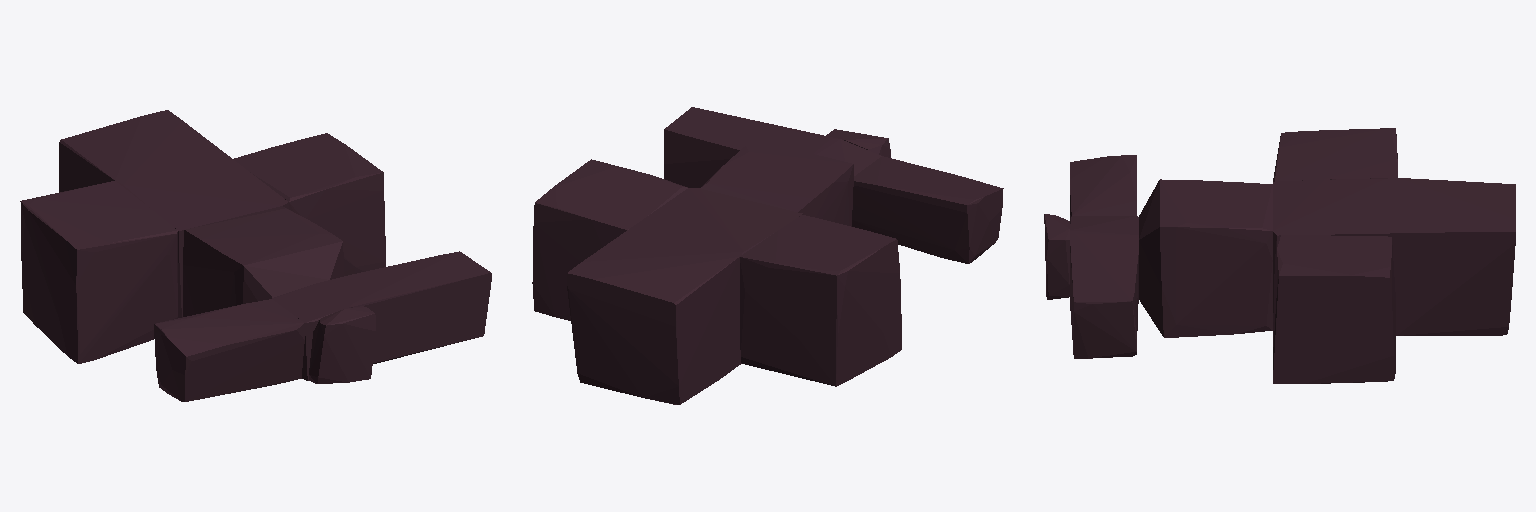
robot.urdf — blob862:
<robot name="blob862">
  <link name="random_obj_862">
    <contact>
      <lateral_friction value="1.0"/>
      <rolling_friction value="0.0"/>
      <inertia_scaling value="3.0"/>
      <contact_cfm value="0.0"/>
      <contact_erp value="1.0"/>
    </contact>
    <inertial>
      <origin rpy="0 0 0" xyz="0 0 0"/>
      <mass value="0.1"/>
      <inertia ixx="1" ixy="0" ixz="0" iyy="1" iyz="0" izz="0"/>
    </inertial>
    <visual>
      <origin rpy="0 0 0" xyz="0 0 0"/>
      <geometry>
        <mesh filename="862.obj" scale="0.015 0.015 0.015"/>
      </geometry>
      <material name="blockmat">
        <color rgba="0.28 0.19 0.23 1"/>
      </material>
    </visual>
    <collision>
      <origin rpy="0 0 0" xyz="0 0 0"/>
      <geometry>
        <mesh filename="862.obj" scale="0.015 0.015 0.015"/>
      </geometry>
    </collision>
  </link>
</robot>

--- Facts derived from the render (not from the file) ---
3 views of the same robot in one strip: view 1: azimuth 30°, elevation 25°; view 2: azimuth 150°, elevation 25°; view 3: azimuth 270°, elevation 25° (orthographic).
Robot: blob862 — 1 links, 0 joints (none); root link random_obj_862; default pose: every joint at zero.
Visible links, largest first — view 1: random_obj_862; view 2: random_obj_862; view 3: random_obj_862.
Link boxes in pixels (box(x1,y1,x2,y2)): random_obj_862: box(20, 110, 491, 401); random_obj_862: box(532, 107, 1003, 404); random_obj_862: box(1044, 128, 1515, 383).
Size in the robot's own frame: 0.0919 by 0.1224 by 0.0332 metres.
1 mesh visuals loaded from 1 distinct referenced files (1 OBJ).